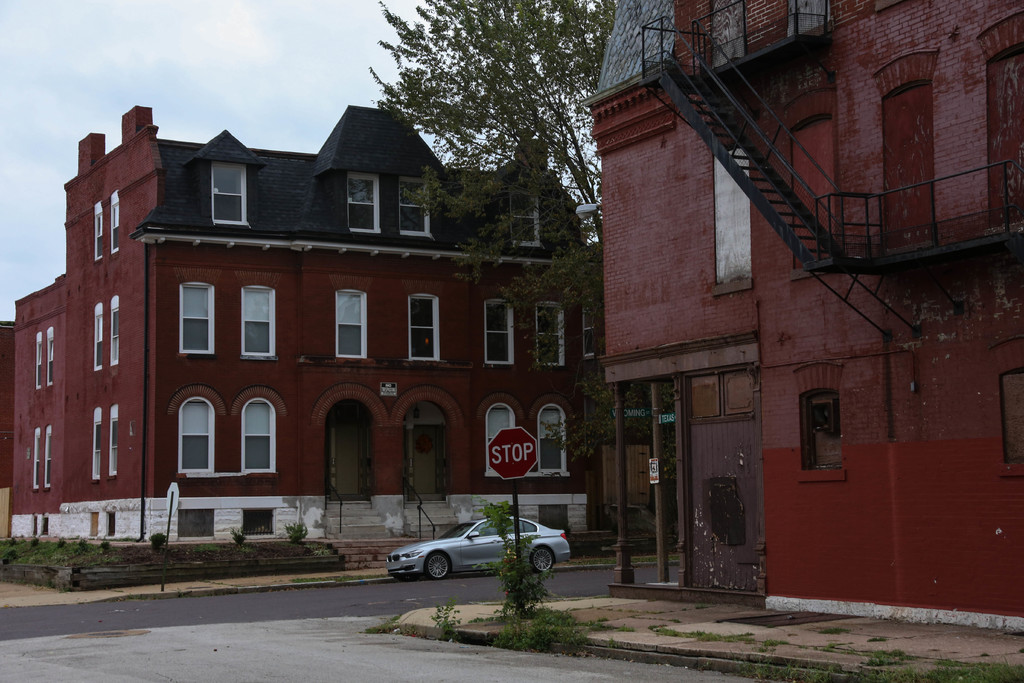mobil: (393, 513, 569, 581)
